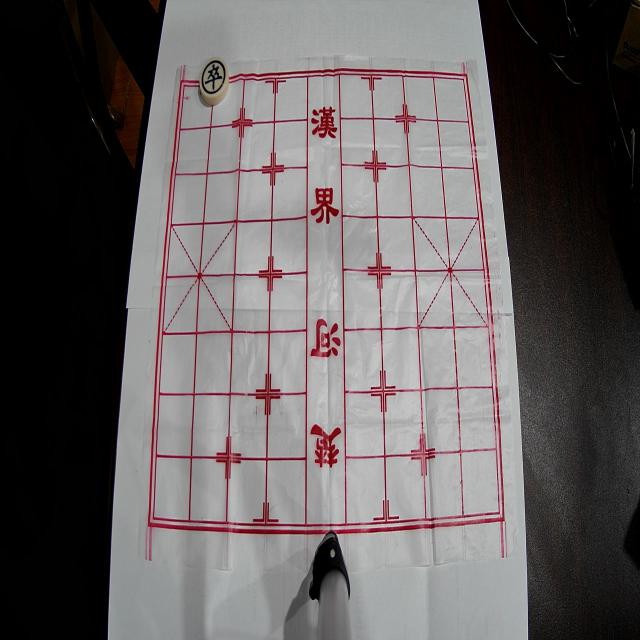black-soldier: (200, 56, 228, 106)
